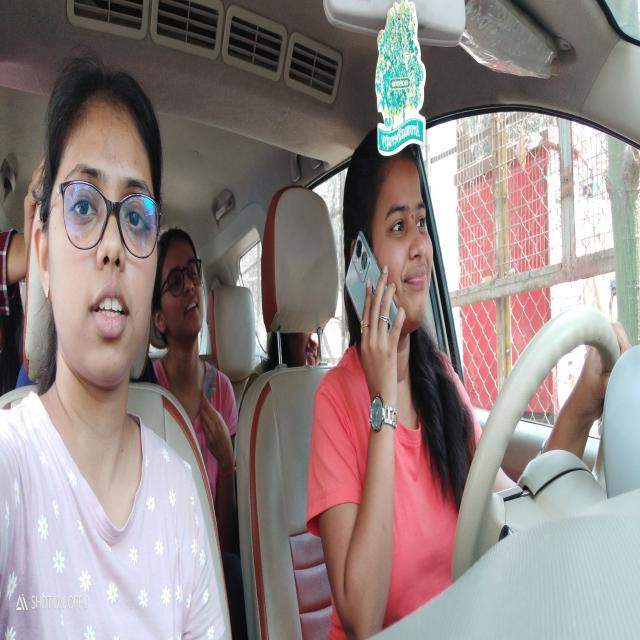mobile: (348, 223, 402, 364)
person: (29, 48, 163, 410), (346, 116, 449, 368), (160, 210, 217, 378), (277, 306, 331, 377)
